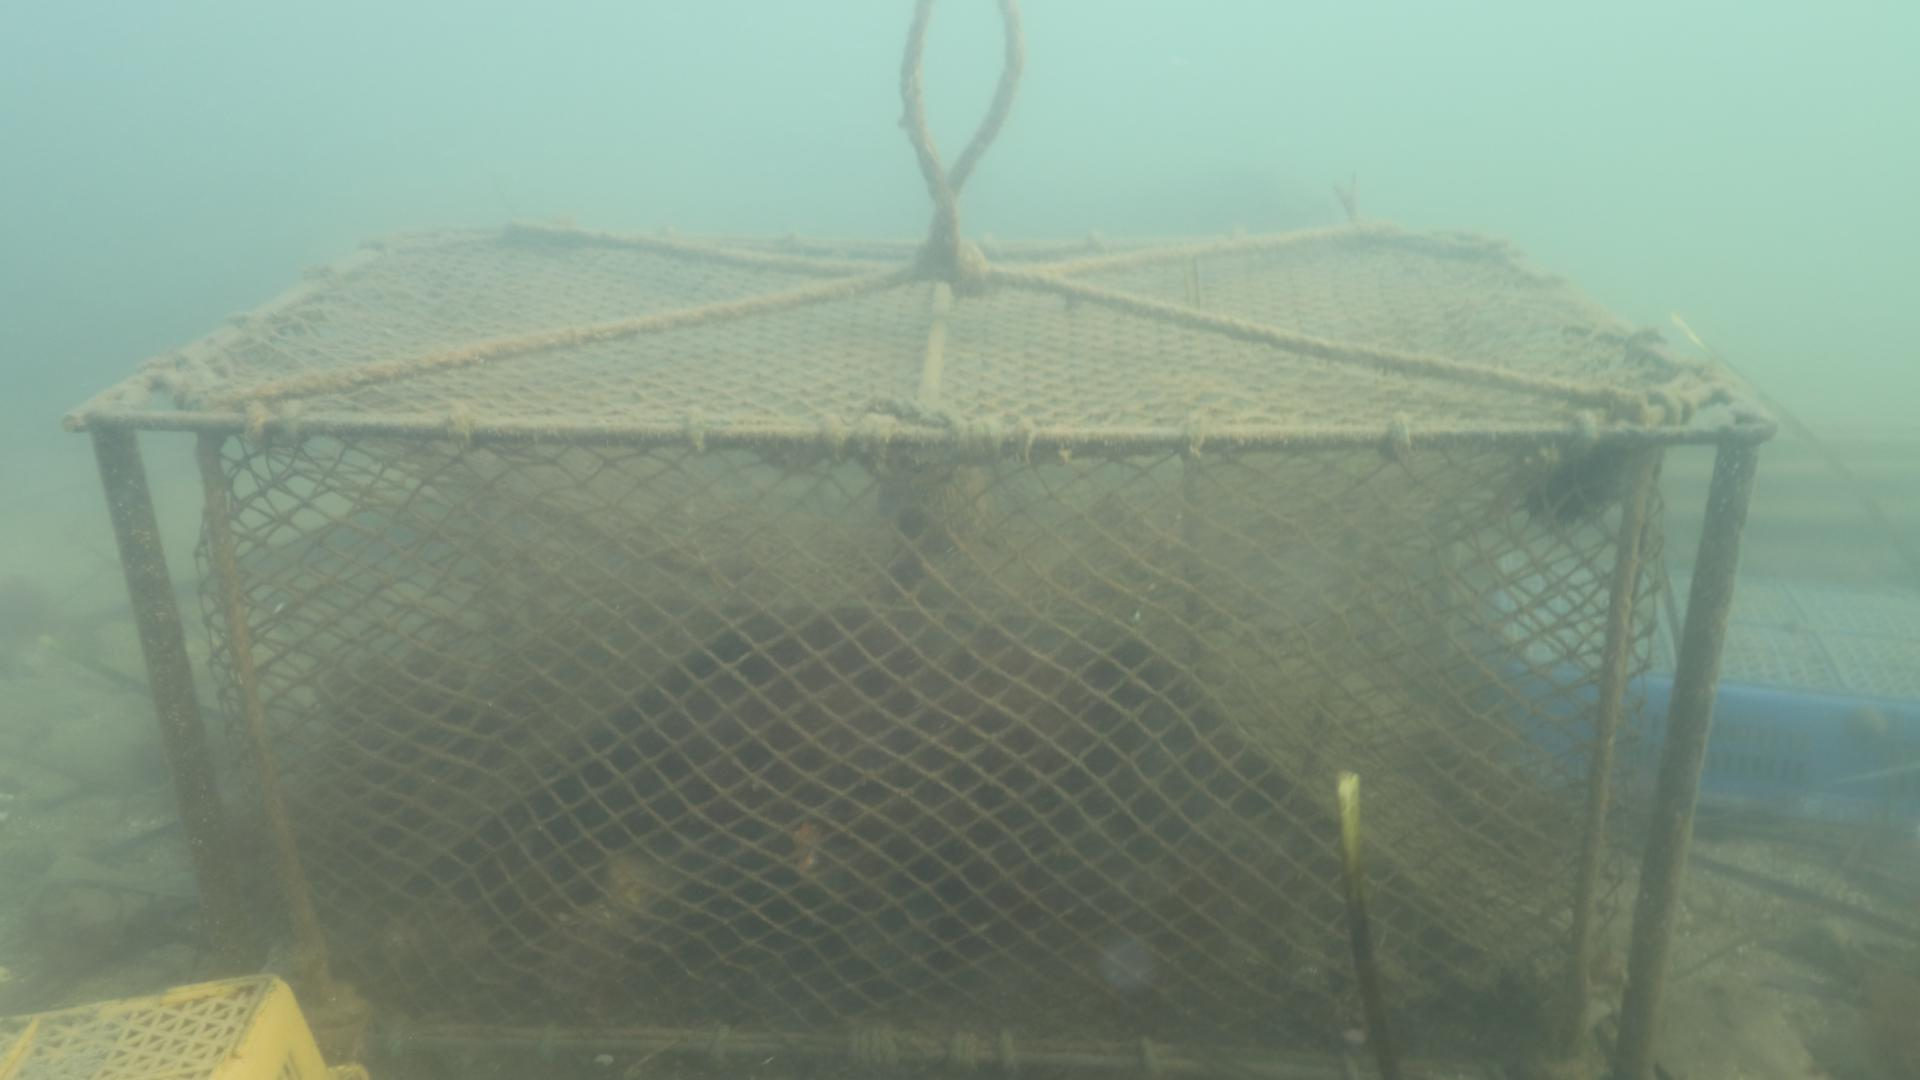bundle of ropes: (893, 1, 1022, 276)
rectangular fish trap: (55, 224, 1776, 1080)
